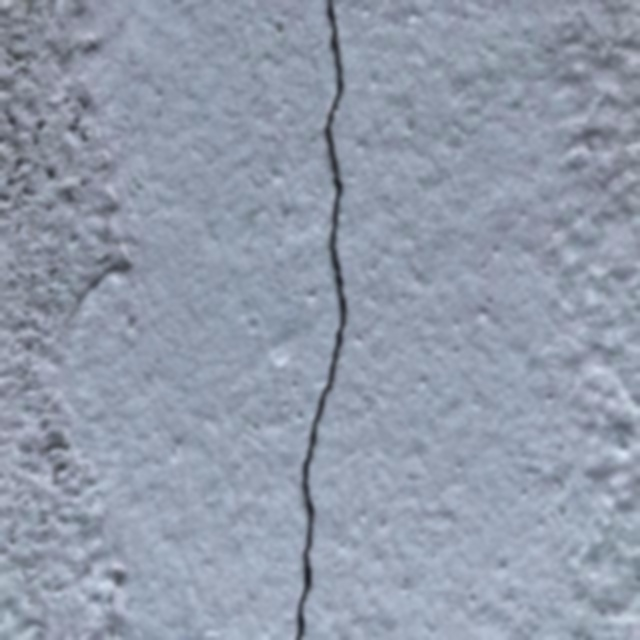SurfaceCrack: (250, 0, 401, 640)
